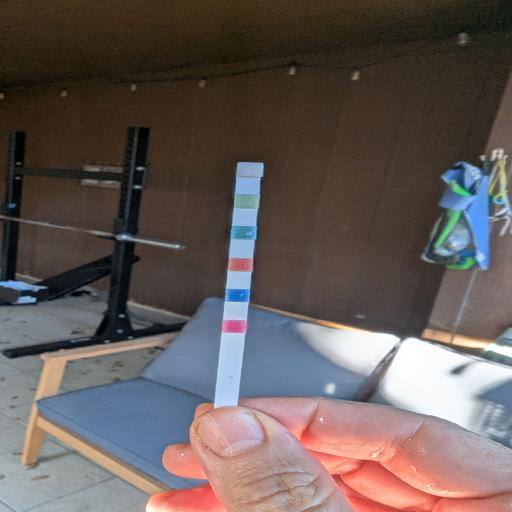strip: (215, 161, 266, 409)
